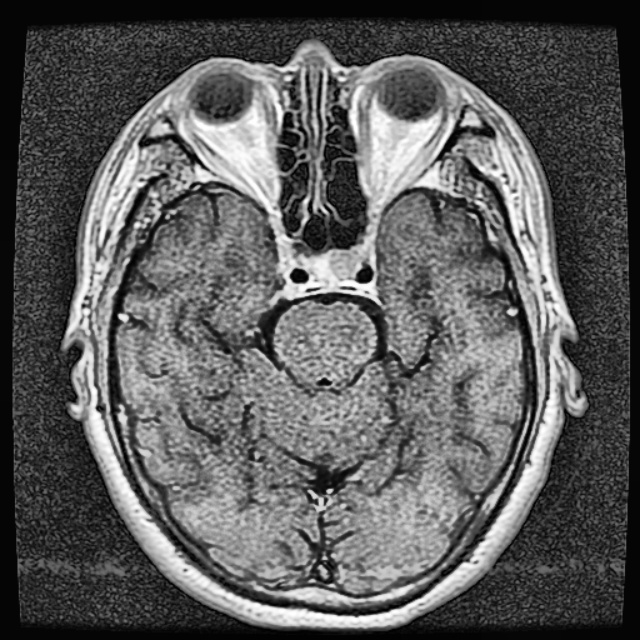Pituitary: (314, 244, 370, 285)
